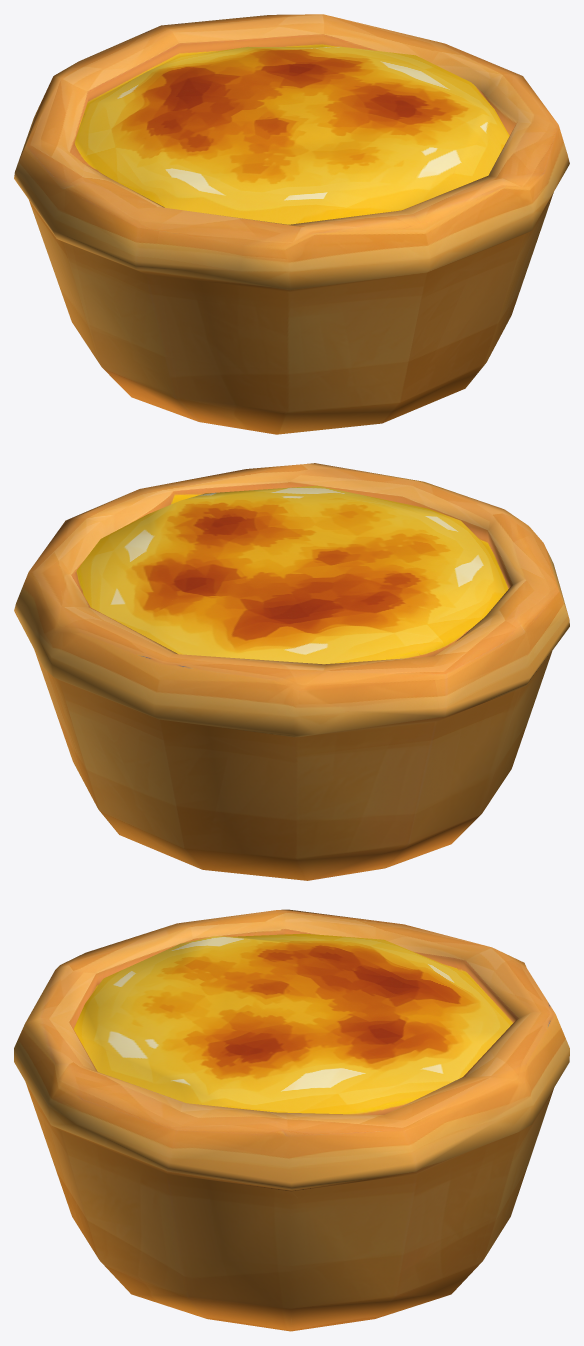
Rendered from source.fbx.
3 views of the same model, one above another, from view 1: azimuth 30°, elevation 25°; view 2: azimuth 150°, elevation 25°; view 3: azimuth 270°, elevation 25° (orthographic).
Visible parts, largest first — view 1: Mesh_0; view 2: Mesh_0; view 3: Mesh_0.
Boxes of the visible parts, x1,y1,x2,y2 form: Mesh_0: (14, 14, 569, 434); Mesh_0: (14, 463, 569, 880); Mesh_0: (14, 909, 569, 1331).
Bounding box in the file's own units: 36.02 × 18 × 36.
Materials: 1 (1 with a texture image).
